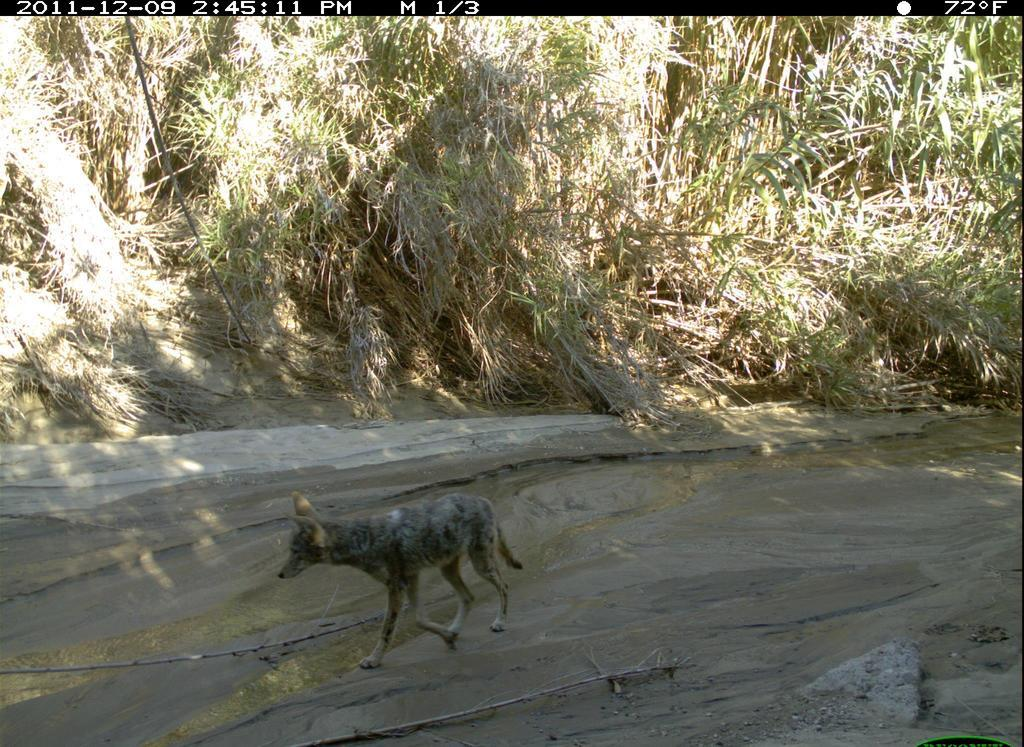coyote: (268, 482, 534, 673)
